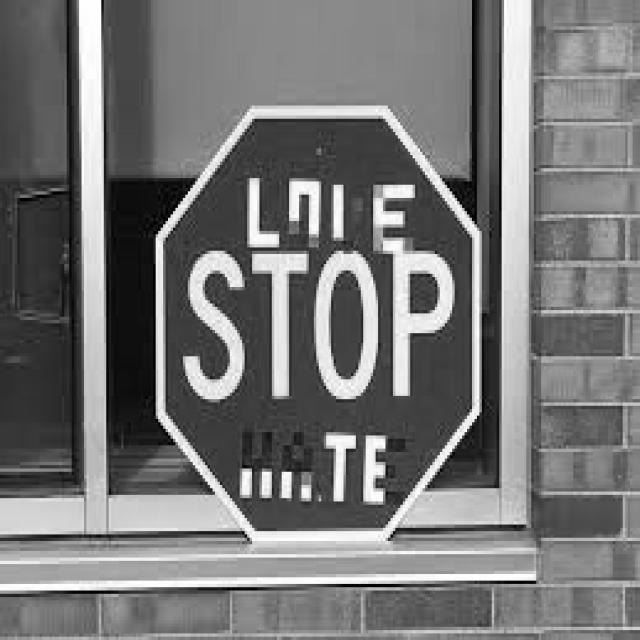stop sign: (158, 97, 485, 548)
